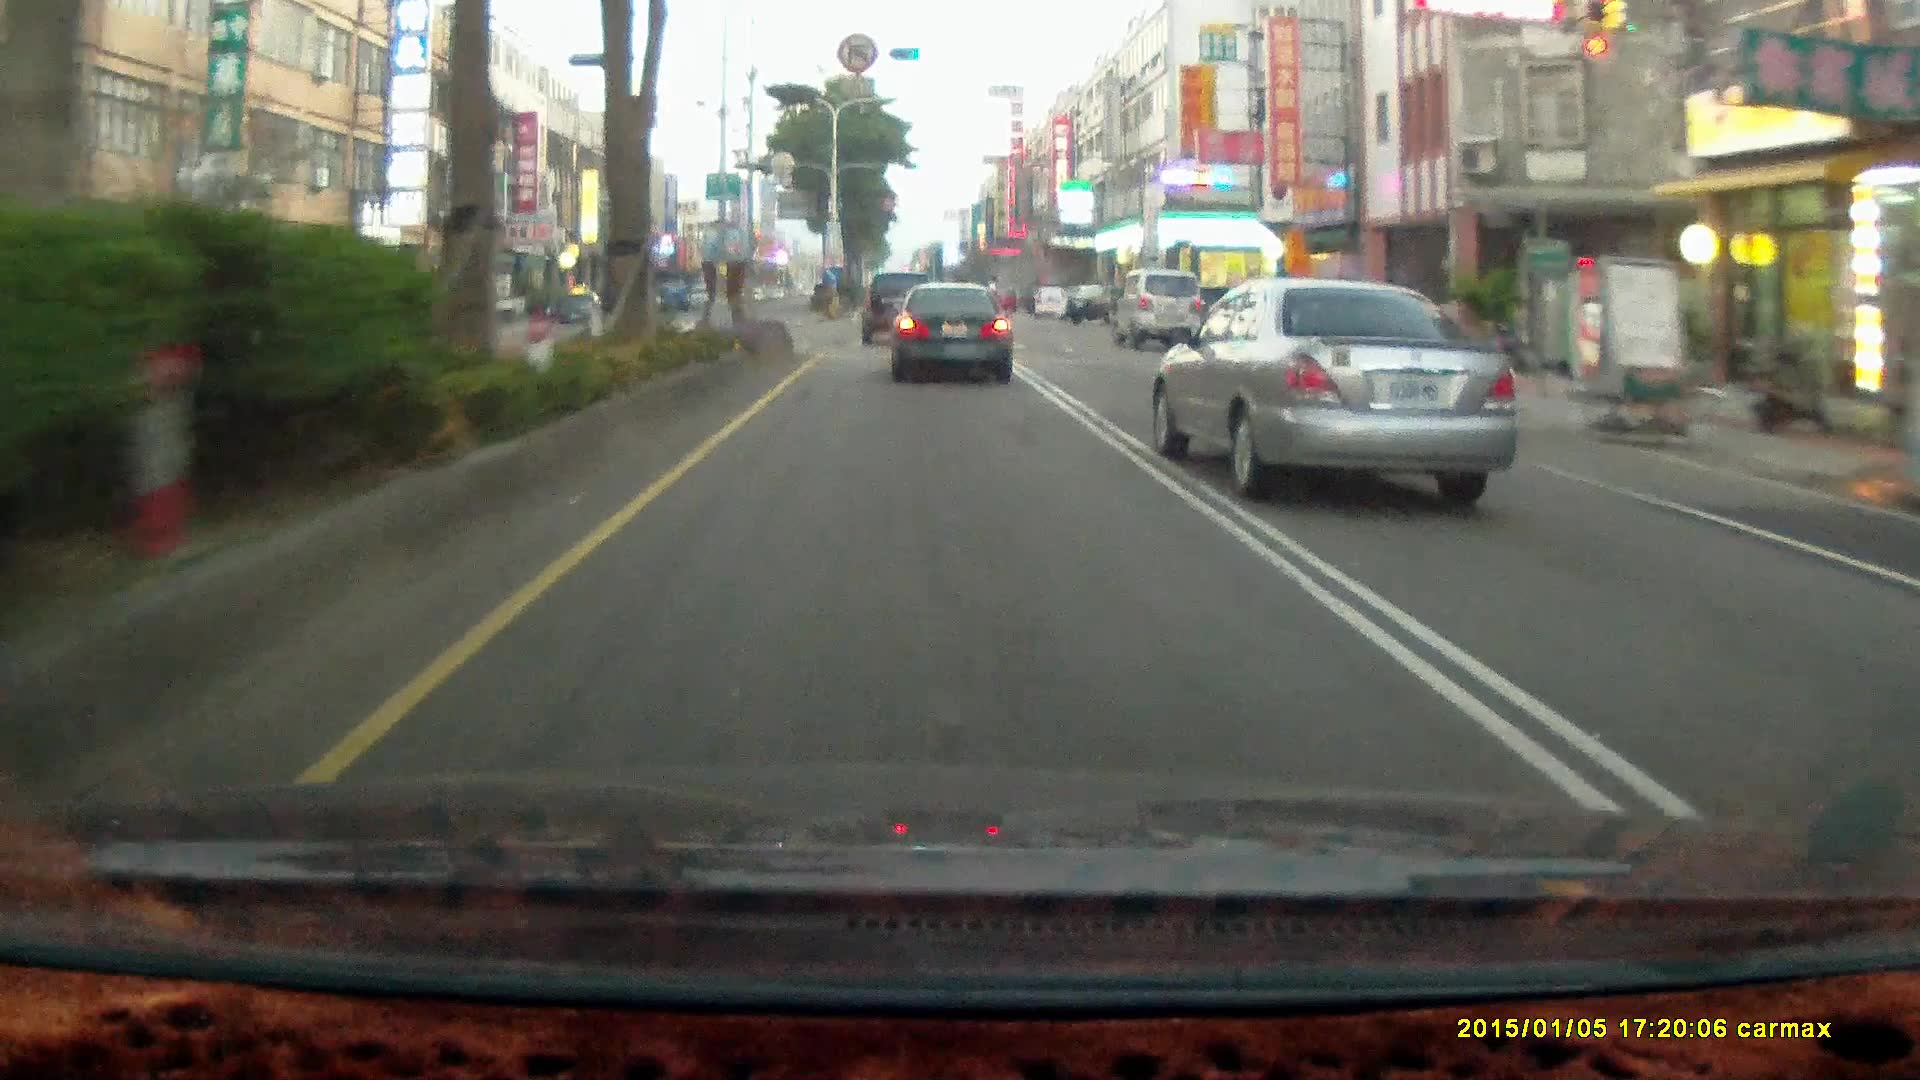vehicle: (1155, 284, 1530, 504), (893, 284, 1017, 388), (890, 282, 1011, 384), (1112, 269, 1204, 356), (1112, 269, 1203, 353), (861, 273, 940, 351), (861, 272, 938, 345), (1065, 282, 1134, 323), (556, 294, 605, 324), (1033, 286, 1069, 319)
